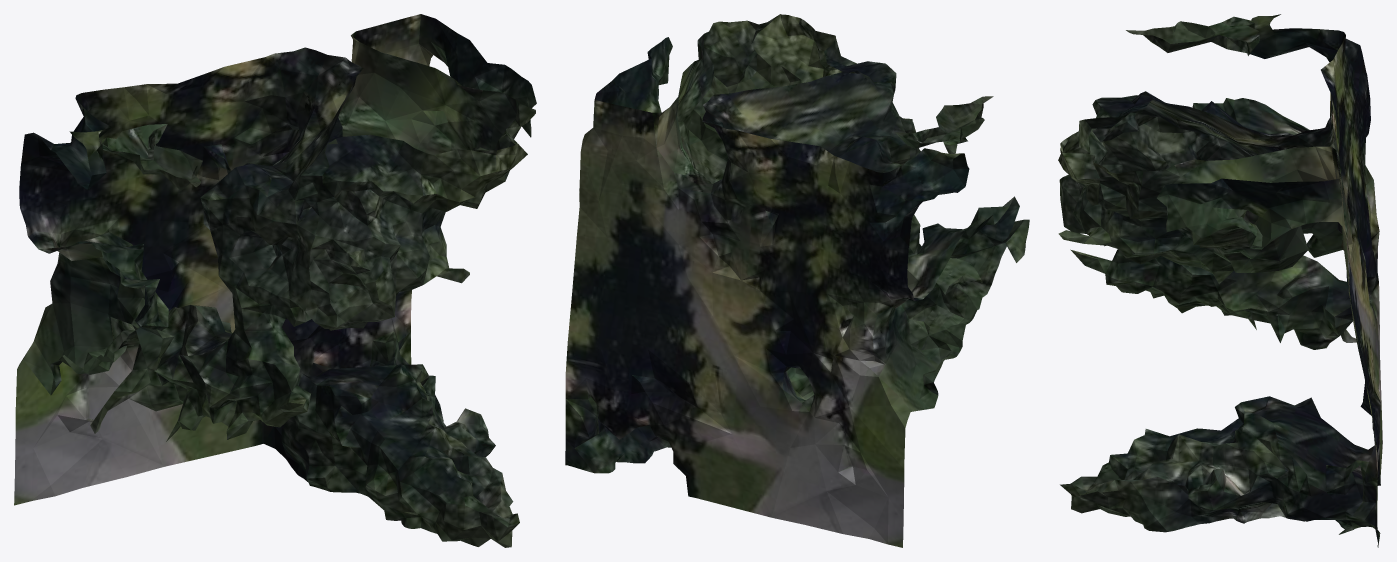
The model's file is Tile_+031_+023_L19_000333.obj.
3 renders of one model, left to right at view 1: azimuth 30°, elevation 25°; view 2: azimuth 150°, elevation 25°; view 3: azimuth 270°, elevation 25°, orthographic. The views are drawn at different scales.
Size of the model in its own units: 31.5 by 31.5 by 25.46.
Materials: 1 (1 with a texture image).
